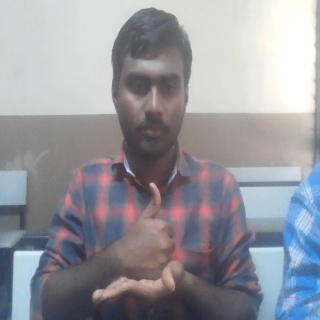Face: (108, 6, 194, 173)
Help: (89, 180, 185, 307)
